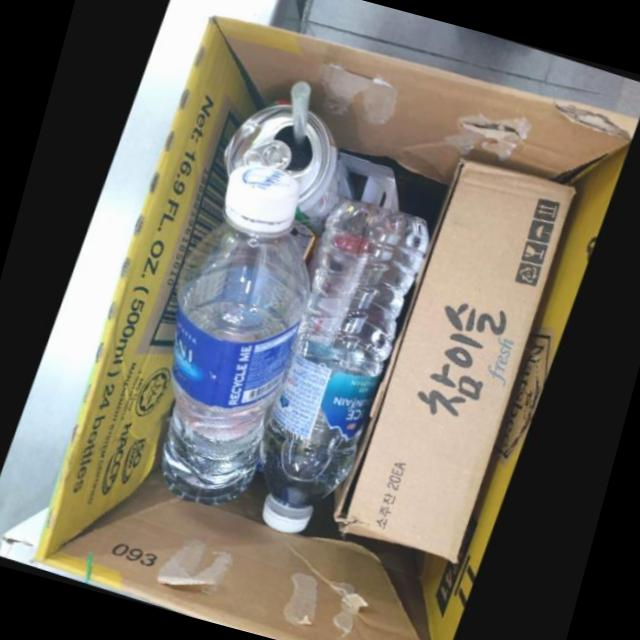carton: (337, 155, 579, 563)
chai_nhua_pet: (263, 198, 432, 534), (164, 162, 312, 506)
nhom: (227, 100, 356, 237)
ong_hut_nhua: (291, 81, 310, 151)
